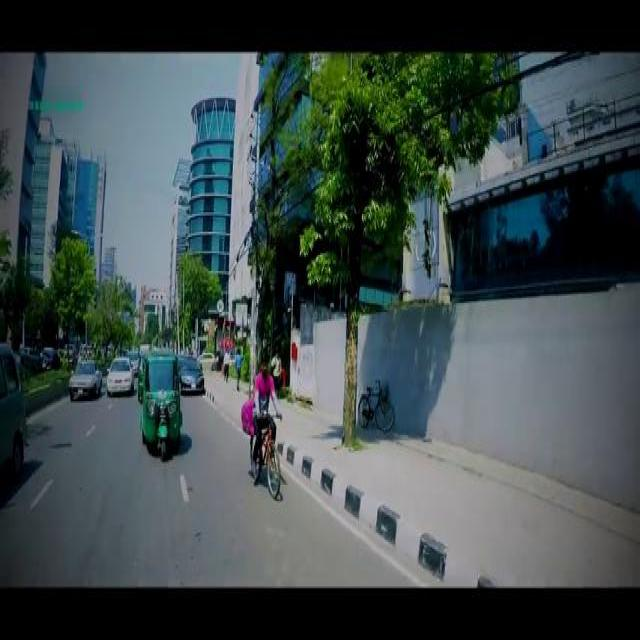bicycle: (248, 408, 284, 496), (356, 382, 394, 429)
car: (67, 357, 101, 398), (105, 355, 133, 392), (177, 353, 201, 390)
three wheelers -CNG-: (139, 348, 181, 452)
